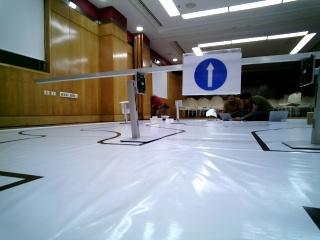straight: (185, 53, 243, 95)
